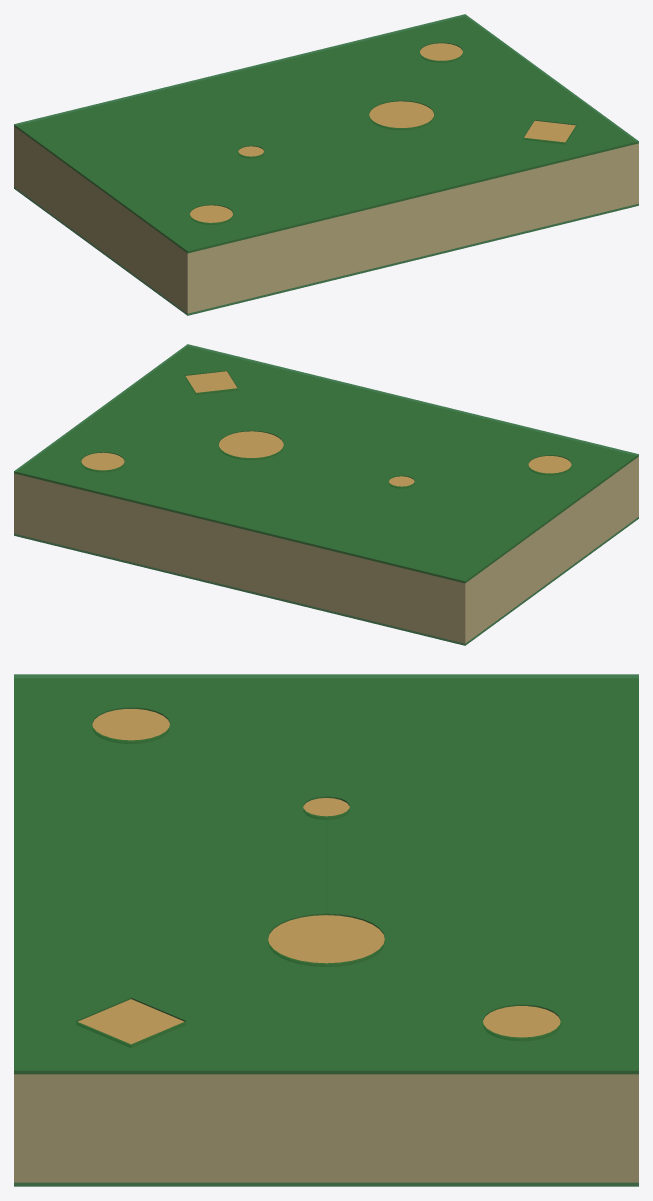
File: fiducials.glb
3 renders of one model, top to bottom at view 1: azimuth 30°, elevation 25°; view 2: azimuth 150°, elevation 25°; view 3: azimuth 270°, elevation 25°, orthographic. The views are drawn at different scales.
Visible parts, largest first — view 1: layer/@soldermask-top, layer/@core, layer/TOP, layer/@soldermask-bottom; view 2: layer/@soldermask-top, layer/@core, layer/TOP, layer/@soldermask-bottom; view 3: layer/@soldermask-top, layer/@core, layer/TOP, layer/@soldermask-bottom.
Boxes of the visible parts, <box> form: layer/@soldermask-top: <box>14,14,638,253</box>; layer/@core: <box>14,17,638,313</box>; layer/TOP: <box>190,43,575,224</box>; layer/@soldermask-bottom: <box>14,187,638,315</box>; layer/@soldermask-top: <box>14,344,638,583</box>; layer/@core: <box>14,347,638,643</box>; layer/TOP: <box>81,371,571,487</box>; layer/@soldermask-bottom: <box>14,517,638,645</box>; layer/@soldermask-top: <box>14,674,638,1074</box>; layer/@core: <box>14,679,638,1182</box>; layer/TOP: <box>78,709,560,1044</box>; layer/@soldermask-bottom: <box>14,1182,638,1186</box>.
Size of the model in its own units: 0.012 by 0.00164 by 0.008.
